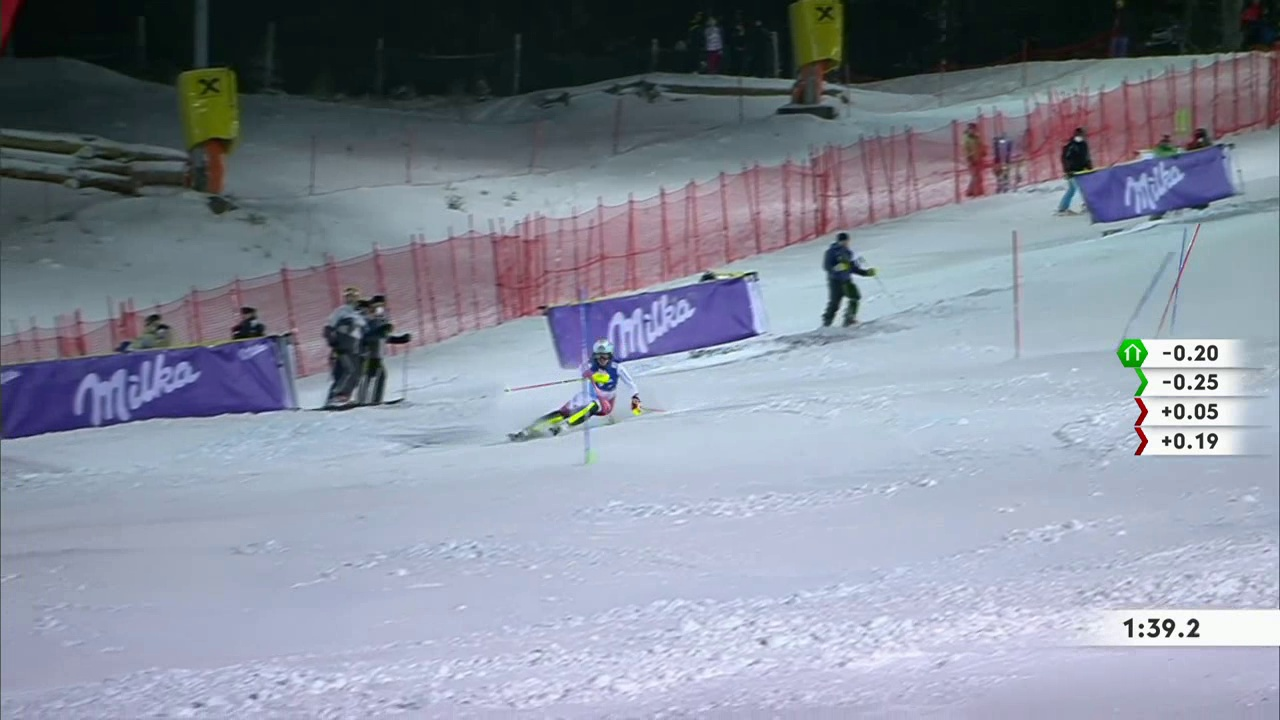milka: (19, 351, 255, 433), (586, 287, 736, 368), (1098, 153, 1222, 221)
raiffeisen: (191, 69, 231, 104), (807, 1, 841, 30)
